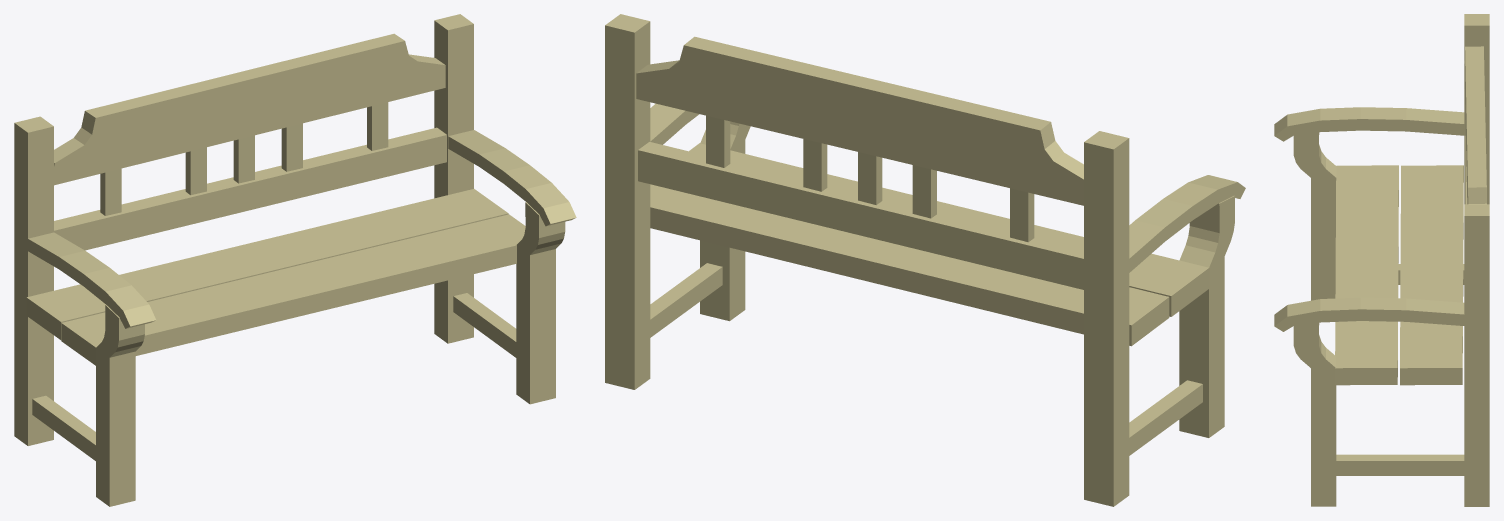
File: Backyard_Bench.fbx
The picture shows the model from 3 angles, left to right: view 1: azimuth 30°, elevation 25°; view 2: azimuth 150°, elevation 25°; view 3: azimuth 270°, elevation 25°; orthographic projection. The views are drawn at different scales.
Parts seen in each view (by area): view 1: Backyard_Bench; view 2: Backyard_Bench; view 3: Backyard_Bench.
Boxes of the visible parts, <box> form: Backyard_Bench: <box>14,14,576,506</box>; Backyard_Bench: <box>605,14,1245,506</box>; Backyard_Bench: <box>1274,14,1489,506</box>.
Bounding box in the file's own units: 191 × 85.72 × 128.
